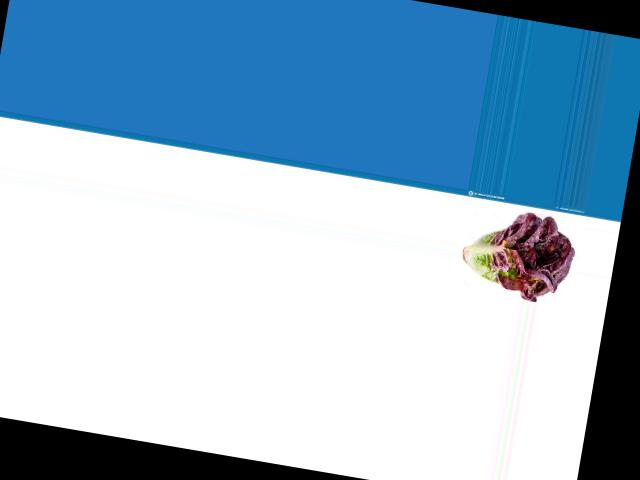lettuce: (456, 202, 578, 303)
